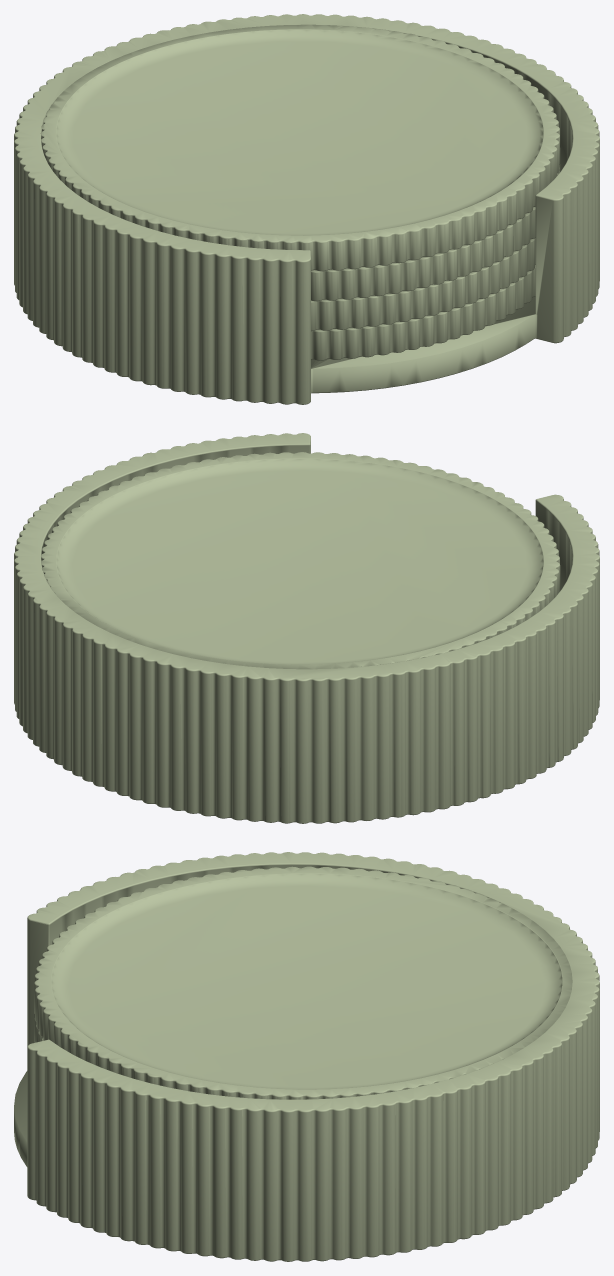
The model's file is bardak-altligi-seti-yivli.glb.
3 renders of one model, top to bottom at view 1: azimuth 30°, elevation 25°; view 2: azimuth 150°, elevation 25°; view 3: azimuth 270°, elevation 25°, orthographic. The views are drawn at different scales.
Parts seen in each view (by area): view 1: Altliklar, Tepsi; view 2: Tepsi, Altliklar; view 3: Tepsi, Altliklar.
Part boxes in pixels (x1=…): Altliklar: x1=40, y1=24, x2=560, y2=360; Tepsi: x1=14, y1=14, x2=599, y2=404; Tepsi: x1=14, y1=433, x2=599, y2=823; Altliklar: x1=41, y1=452, x2=560, y2=669; Tepsi: x1=14, y1=852, x2=599, y2=1261; Altliklar: x1=34, y1=866, x2=572, y2=1099.
Bounding box in the file's own units: 0.107 × 0.029 × 0.102.
